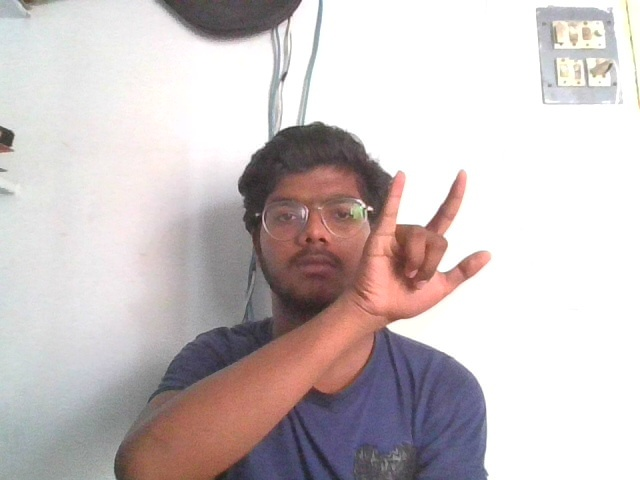IloveYou: (358, 163, 495, 324)
